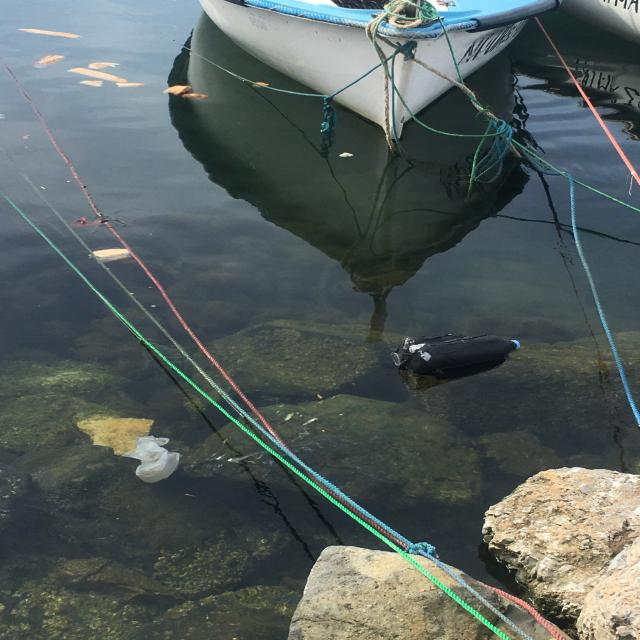Plastic bag: (122, 431, 183, 489), (74, 412, 153, 455)
Plastic bottle: (386, 327, 524, 378)
